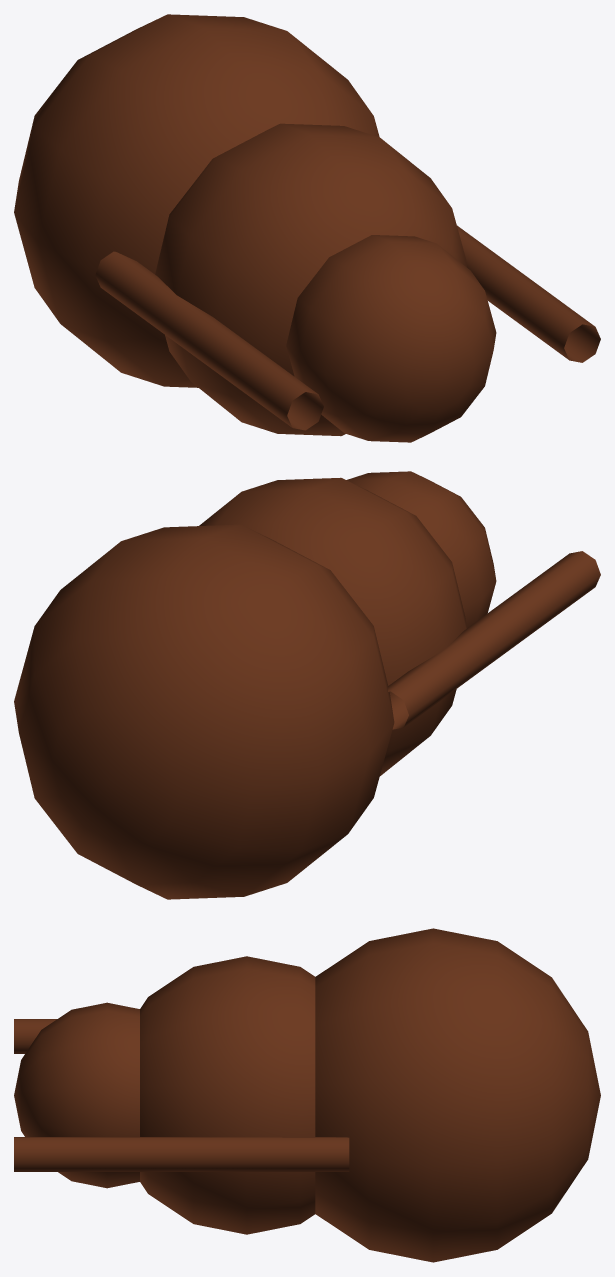
3 renders of one model, top to bottom at view 1: azimuth 30°, elevation 25°; view 2: azimuth 150°, elevation 25°; view 3: azimuth 270°, elevation 25°, orthographic. The views are drawn at different scales.
Visible parts, largest first — view 1: Huntsman_Spider; view 2: Huntsman_Spider; view 3: Huntsman_Spider.
Boxes of the visible parts, x1=… form: Huntsman_Spider: x1=14, y1=14, x2=600, y2=442; Huntsman_Spider: x1=14, y1=471, x2=600, y2=899; Huntsman_Spider: x1=14, y1=928, x2=600, y2=1262.
Bounding box in the file's own units: 0.396 × 0.396 × 0.693.
